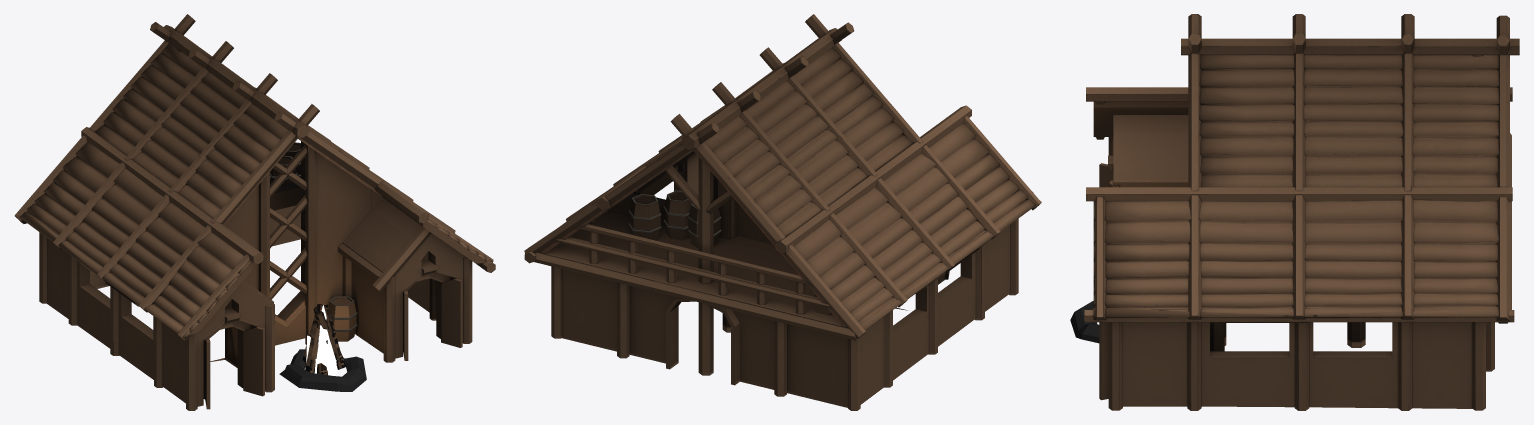
The model's file is guildhallv3.f1341012.gltf.
3 renders of one model, left to right at view 1: azimuth 30°, elevation 25°; view 2: azimuth 150°, elevation 25°; view 3: azimuth 270°, elevation 25°, orthographic. The views are drawn at different scales.
Visible parts, largest first — view 1: Cube.009; view 2: Cube.009; view 3: Cube.009.
Part boxes in pixels (left/top/right/bottom): Cube.009: left=14, top=14, right=495, bottom=410; Cube.009: left=524, top=14, right=1041, bottom=410; Cube.009: left=1070, top=14, right=1519, bottom=410.
Bounding box in the file's own units: 9.54 × 7.32 × 9.54.
Materials: 4 (1 with a texture image).
